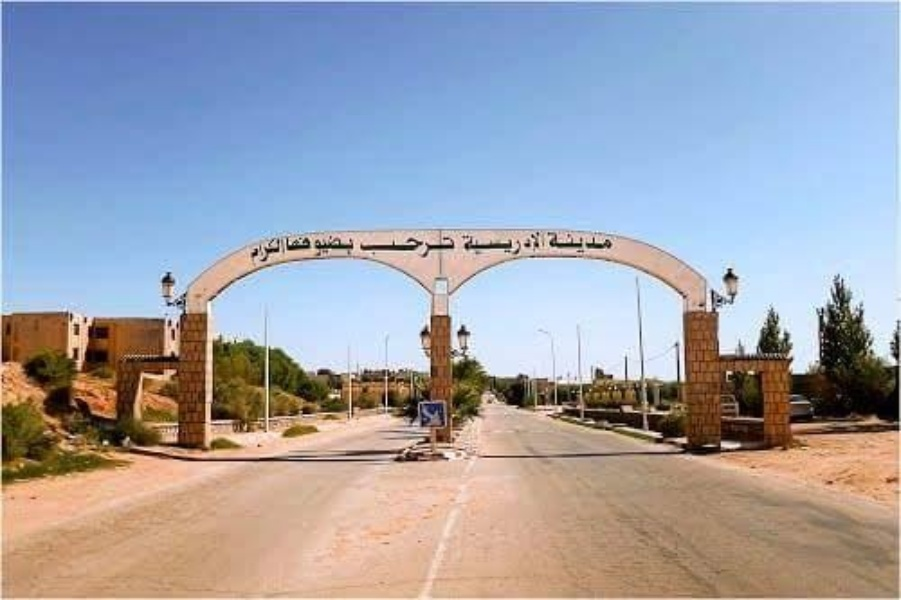text: (273, 237, 289, 264), (465, 228, 480, 256), (481, 228, 496, 256), (497, 228, 512, 256), (513, 228, 528, 256), (529, 228, 544, 256), (561, 229, 576, 256), (577, 229, 592, 256), (593, 229, 608, 256), (289, 231, 304, 258), (305, 231, 320, 258), (321, 231, 336, 258), (337, 231, 352, 258), (257, 237, 272, 264), (369, 235, 384, 260), (385, 235, 400, 260), (401, 235, 416, 260), (417, 235, 432, 260), (433, 235, 448, 260), (547, 229, 560, 256), (357, 235, 368, 260), (609, 229, 619, 256), (449, 235, 458, 260), (283, 231, 288, 258), (251, 237, 256, 264), (460, 228, 464, 256), (545, 228, 548, 256), (353, 231, 354, 258)
